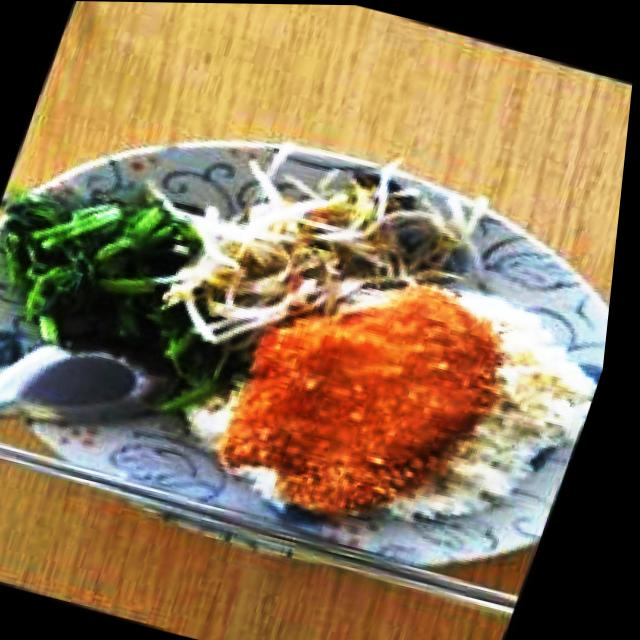fried_chicken: (202, 249, 523, 544)
mung_bean_sprouts: (148, 111, 510, 398)
rice: (377, 288, 611, 556)
water_spinach: (0, 170, 283, 427)
